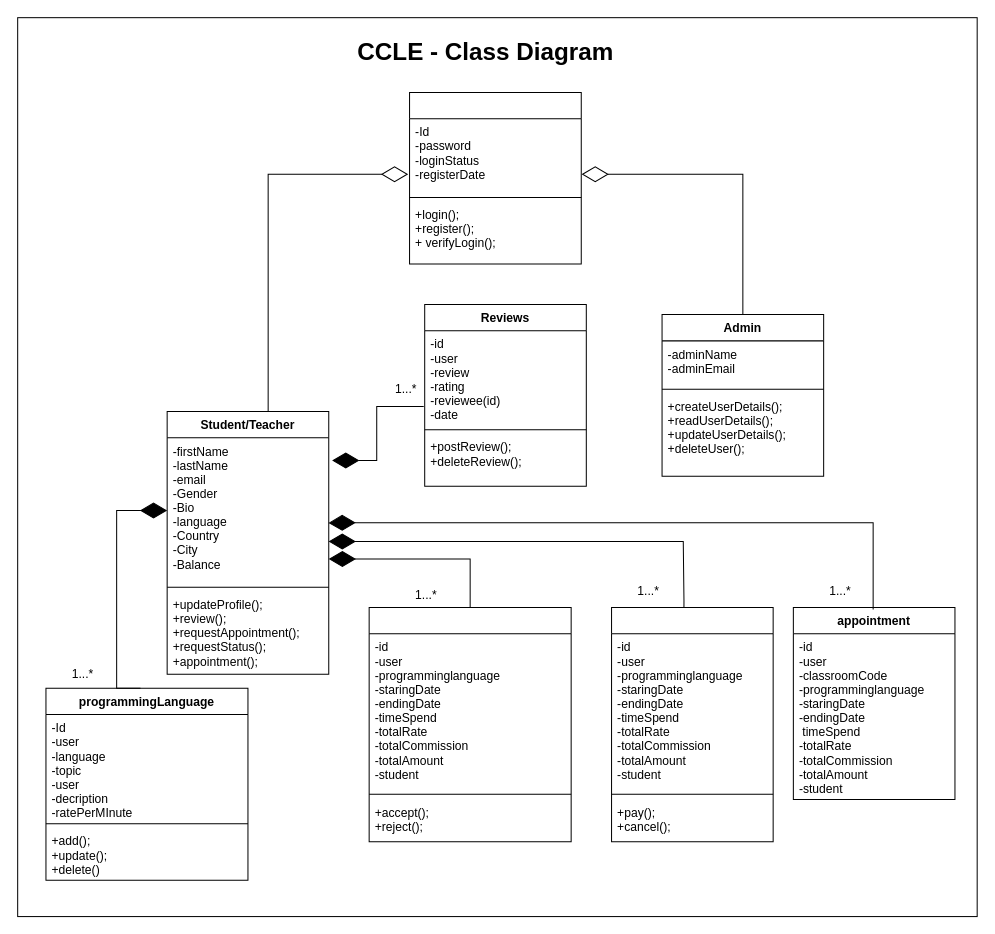
Image size: 995x934. Some labels were removed from this diagram. Here are the shapes that lost their labels. From the top down, the box of each, then its label:
(409, 91, 581, 264): USER
(368, 607, 571, 842): requestAppointment
(611, 607, 773, 842): requestStatus
